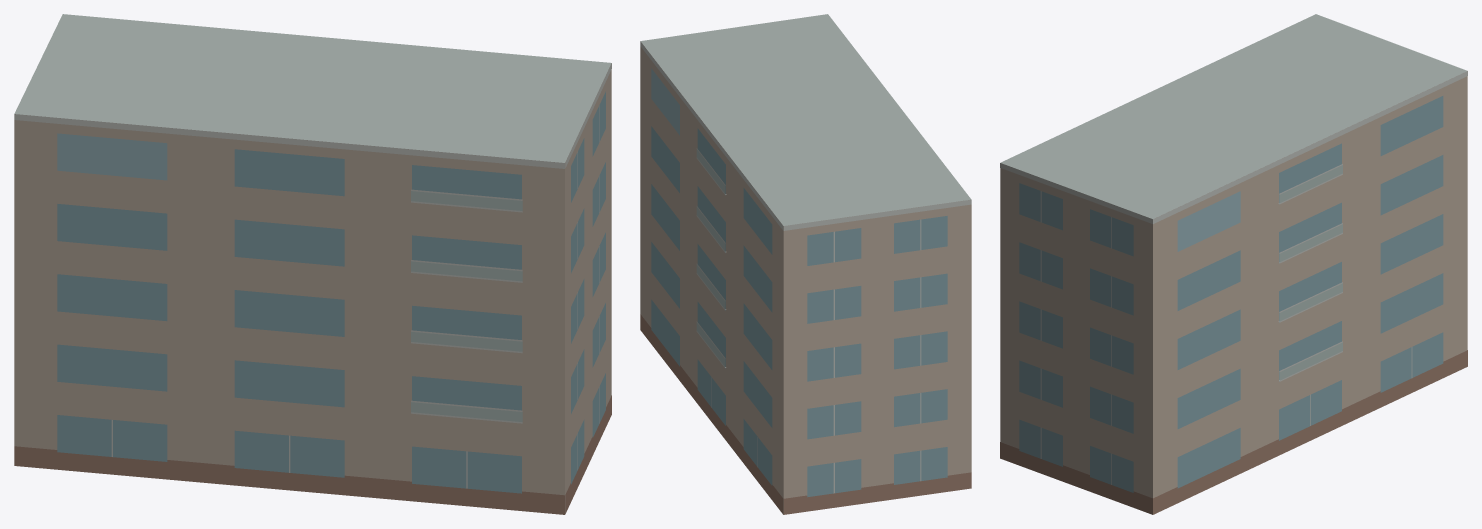
The model's file is survey-upis-32990357.glb.
3 renders of one model, left to right at view 1: azimuth 30°, elevation 25°; view 2: azimuth 150°, elevation 25°; view 3: azimuth 270°, elevation 25°, orthographic. The views are drawn at different scales.
Visible parts, largest first — view 1: survey-upis-32990357.tmp; view 2: survey-upis-32990357.tmp; view 3: survey-upis-32990357.tmp.
Boxes of the visible parts, bbox=[...] form: survey-upis-32990357.tmp: bbox=[14, 14, 611, 514]; survey-upis-32990357.tmp: bbox=[640, 14, 971, 514]; survey-upis-32990357.tmp: bbox=[1000, 14, 1467, 514].
Size of the model in its own units: 21.29 by 14.3 by 20.51.
